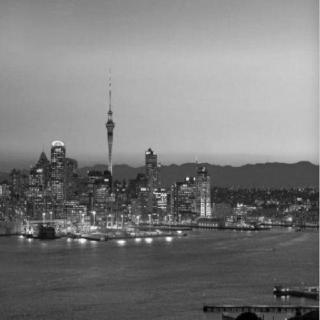other: (70, 210, 188, 248)
